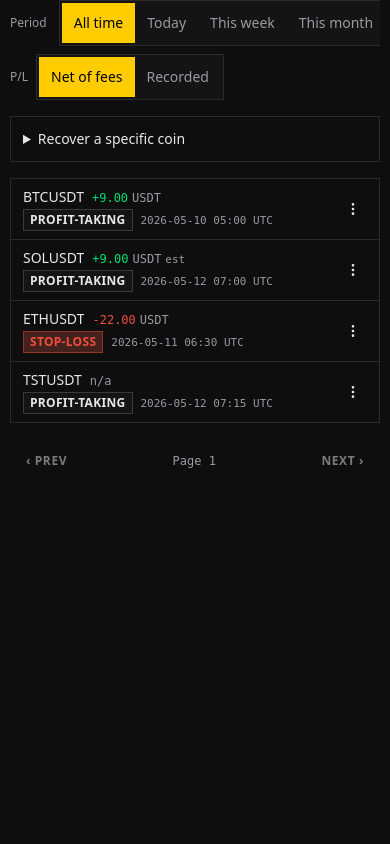
Test case: <TradeArchivePanel> below the md breakpoint › opens a detail sheet with buy, sell, P/L, fees and time when a compact row is activated
Click the button with test id "archive-card-arch-win" at [83, 220], box top-left (23, 179), bottom-right (327, 239)
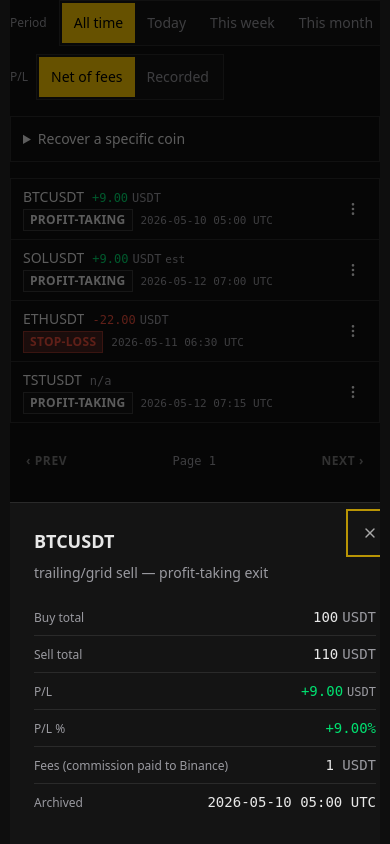
Now the element with test id "archive-detail-buy" shows "100", box top-left (313, 609), bottom-right (338, 625)
Now the element with test id "archive-detail-sell" shows "110", box top-left (313, 646), bottom-right (338, 662)
Now the element with test id "archive-detail-profit" shows "9.00", box top-left (301, 683), bottom-right (343, 699)
